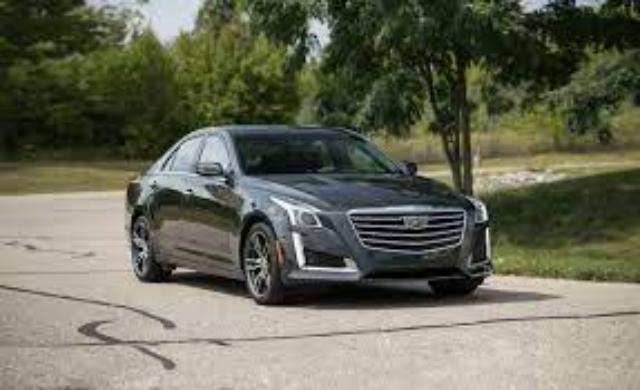cadillac: (124, 125, 496, 306)
